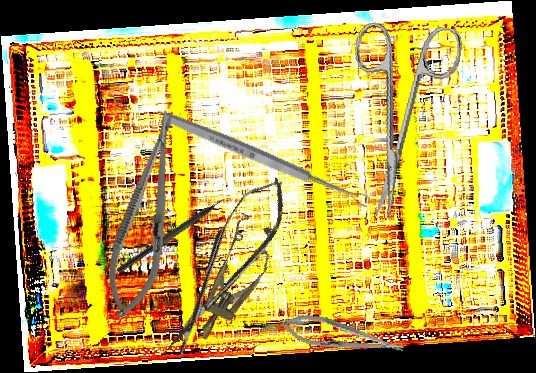Chopper: (115, 189, 239, 282)
Iris Scissors: (327, 12, 465, 227)
Micro Scissor: (149, 168, 302, 362)
Needle Holder: (96, 105, 196, 325), (278, 308, 407, 365)
Speculum: (181, 211, 285, 351)
Surgical Spoon: (161, 109, 372, 210)
